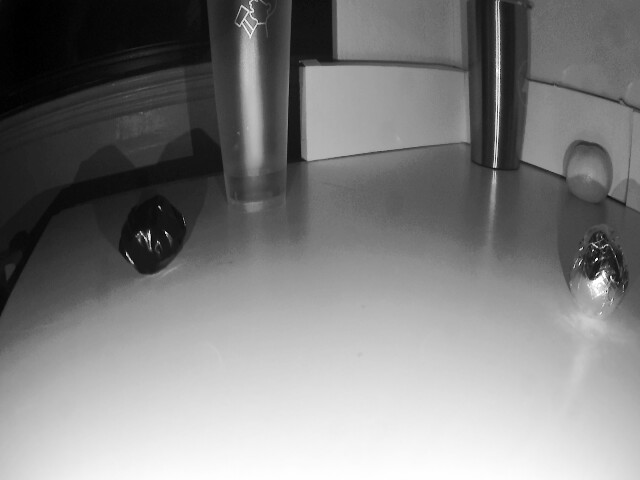black: (111, 201, 183, 272)
silver: (565, 221, 626, 323)
